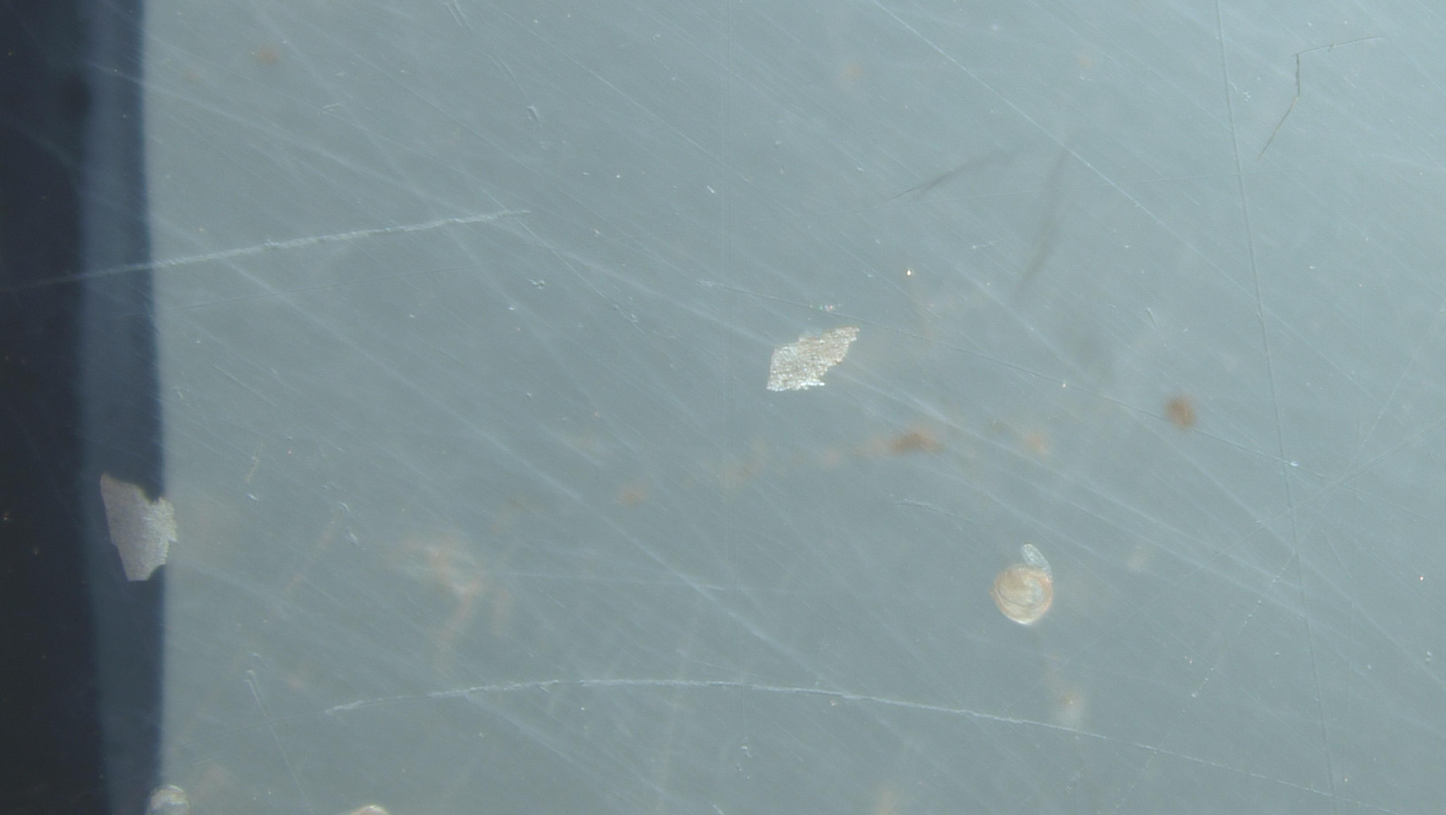live: (991, 564, 1054, 625)
